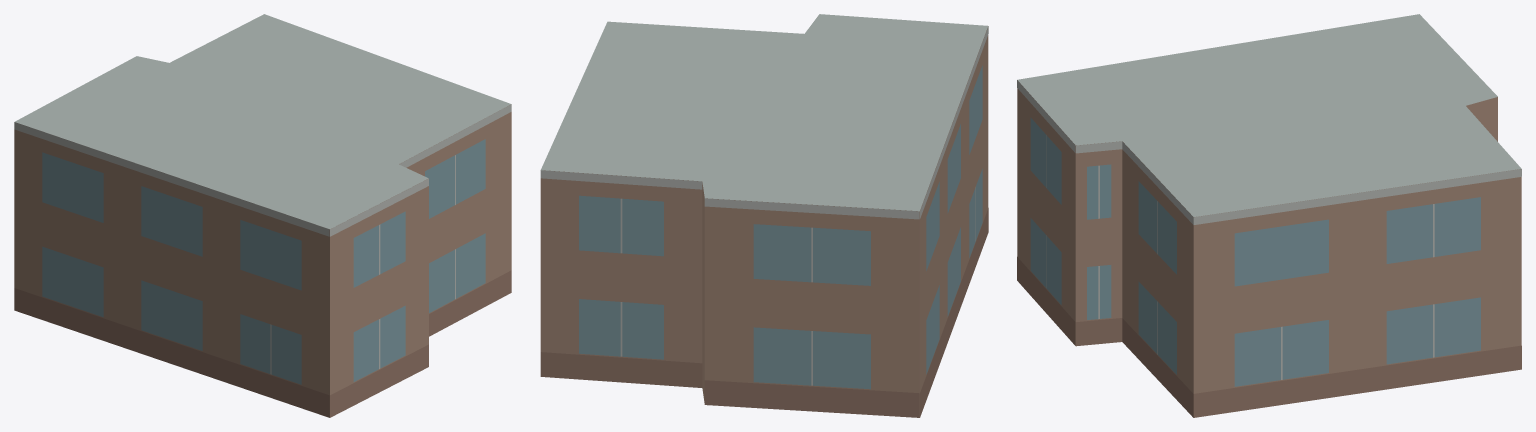
The model's file is survey-upis-32861384.glb.
The picture shows the model from 3 angles, left to right: view 1: azimuth 30°, elevation 25°; view 2: azimuth 150°, elevation 25°; view 3: azimuth 270°, elevation 25°; orthographic projection. The views are drawn at different scales.
Parts seen in each view (by area): view 1: survey-upis-32861384.tmp; view 2: survey-upis-32861384.tmp; view 3: survey-upis-32861384.tmp.
Part boxes in pixels (box(x1,y1,x2,y2)): survey-upis-32861384.tmp: box(14, 14, 511, 417); survey-upis-32861384.tmp: box(540, 14, 988, 417); survey-upis-32861384.tmp: box(1017, 14, 1521, 417).
Size of the model in its own units: 13.25 by 6.1 by 13.91.
